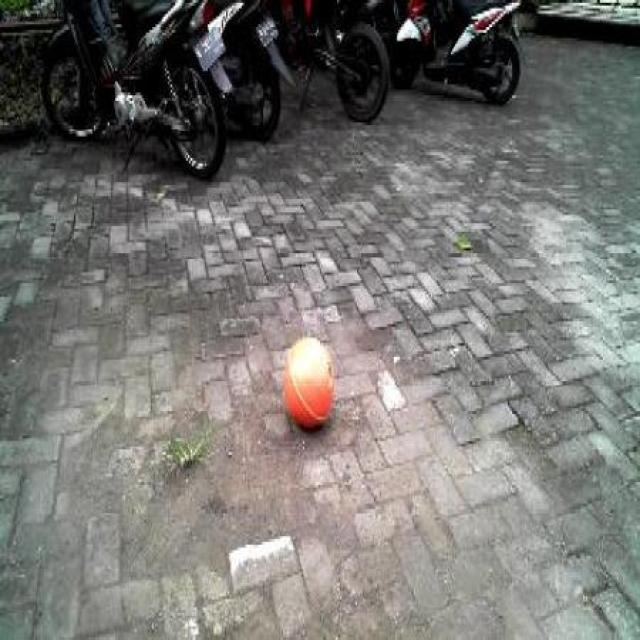buoy: (276, 326, 340, 439)
